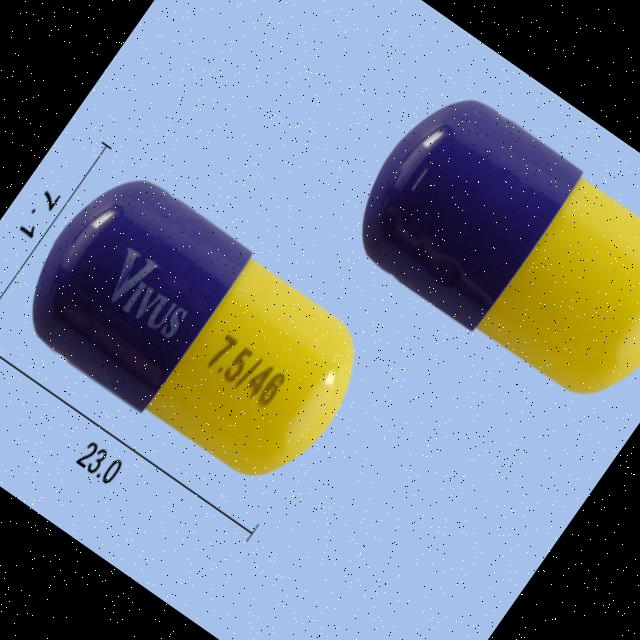Qsymia Cap-7-5mg: (0, 155, 386, 508), (333, 76, 640, 424)
